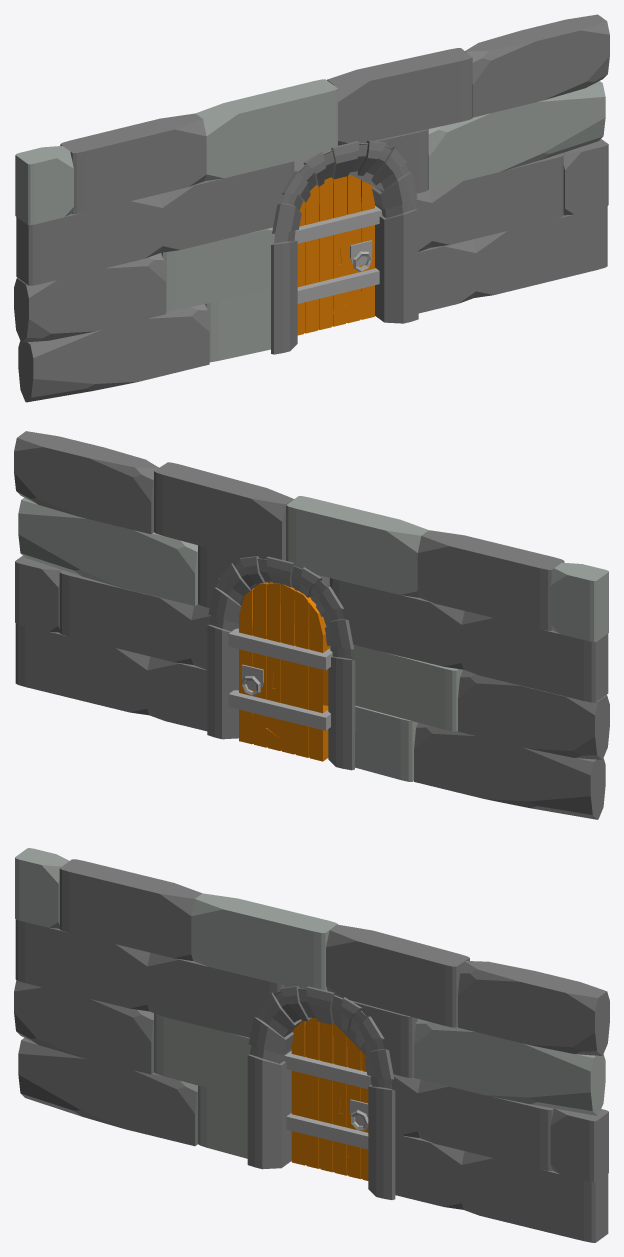
File: walls_002.glb
3 views of the same model, one above another, from view 1: azimuth 30°, elevation 25°; view 2: azimuth 150°, elevation 25°; view 3: azimuth 330°, elevation 25° (orthographic).
Parts seen in each view (by area): view 1: walls_002; view 2: walls_002; view 3: walls_002.
Part boxes in pixels (bbox=[...]): walls_002: bbox=[14, 14, 609, 402]; walls_002: bbox=[14, 431, 609, 819]; walls_002: bbox=[14, 848, 609, 1242].
Size of the model in its own units: 264 by 106 by 21.43.
